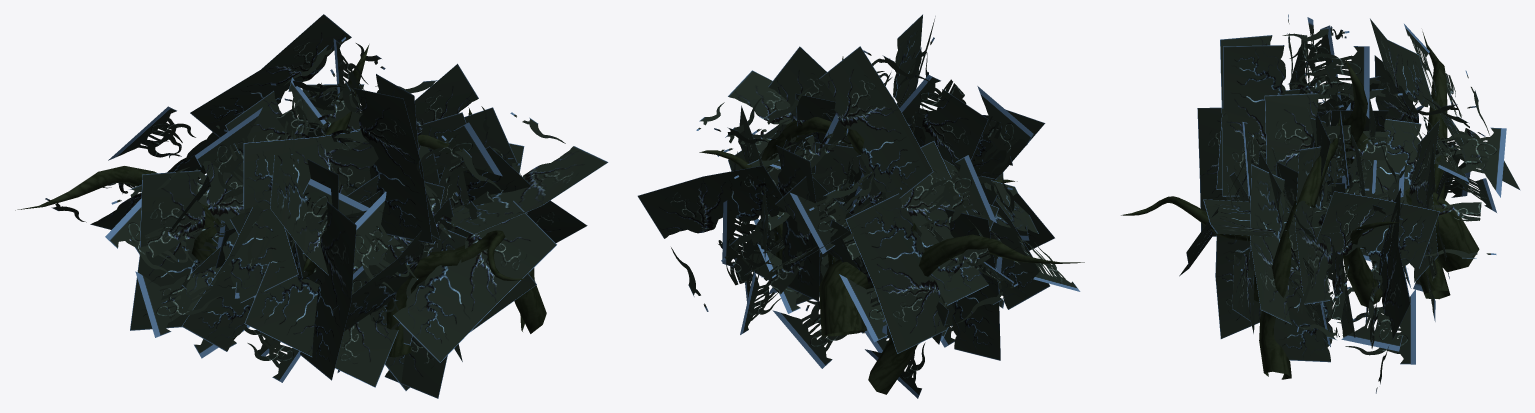
The model's file is buissons_ronces5.FBX.
3 renders of one model, left to right at view 1: azimuth 30°, elevation 25°; view 2: azimuth 150°, elevation 25°; view 3: azimuth 270°, elevation 25°, orthographic. The views are drawn at different scales.
Visible parts, largest first — view 1: Object011; view 2: Object011; view 3: Object011.
Boxes of the visible parts, x1,y1,x2,y2 form: Object011: (15,14,608,398); Object011: (637,14,1084,398); Object011: (1121,14,1520,393).
Size of the model in its own units: 281 by 183 by 211.
